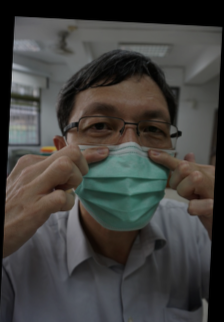with_mask: (60, 99, 173, 230)
